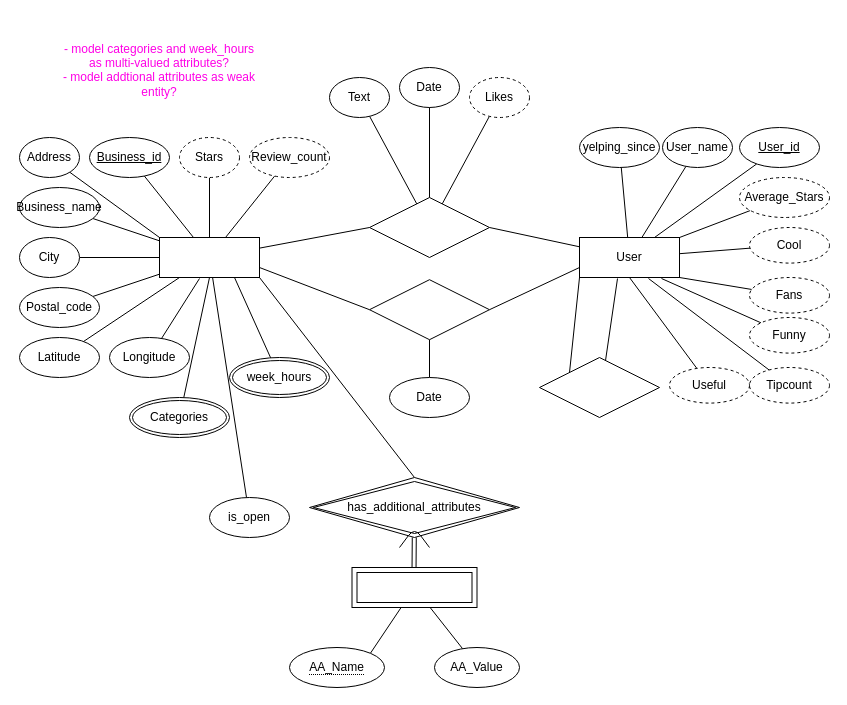
The diagram is 847 pixels wide and 705 high, and some of its shapes have lost their labels. The shapes that lost their labels are listed below. From the top down, each one's centre as x and y in pixels, then its label:
At point 429,227: "Give_Tip".
At point 209,257: "Business".
At point 429,309: "Checks_in".
At point 599,387: "is_Friends_With".
At point 414,587: "additional_attribute".
